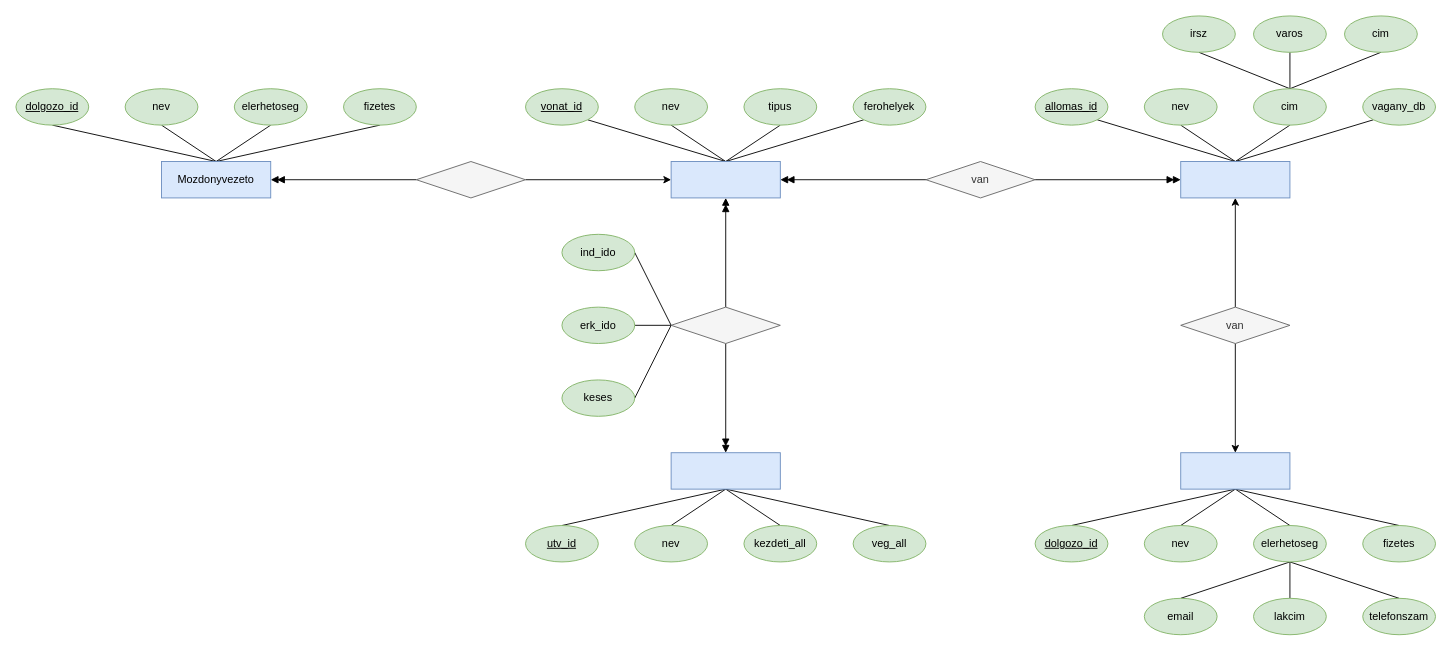
Image size: 1451x651. Some labels were removed from this diagram. Here are the shapes that lost their labels. From the top down, the centre of each, then its label:
the point at 470,179: iranyit
the point at 725,179: Vonat
the point at 1235,179: Vasútállomás
the point at 725,325: megy
the point at 725,470: Útvonal
the point at 1235,470: igazgató
